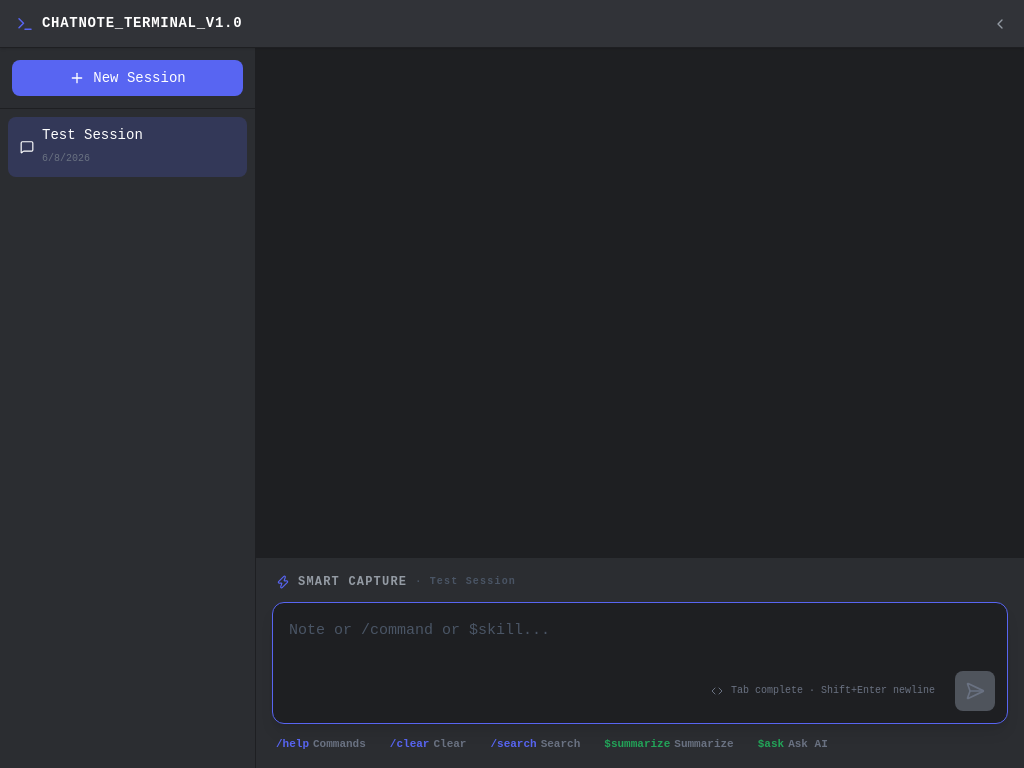
context loading › clicking × on chip removes the chip
Type "@TestServer #general" into the text box with placeholder "Note or /command or $skill...".
click(640, 658); type("@TestServer #general")  # box [273, 602, 1007, 714]
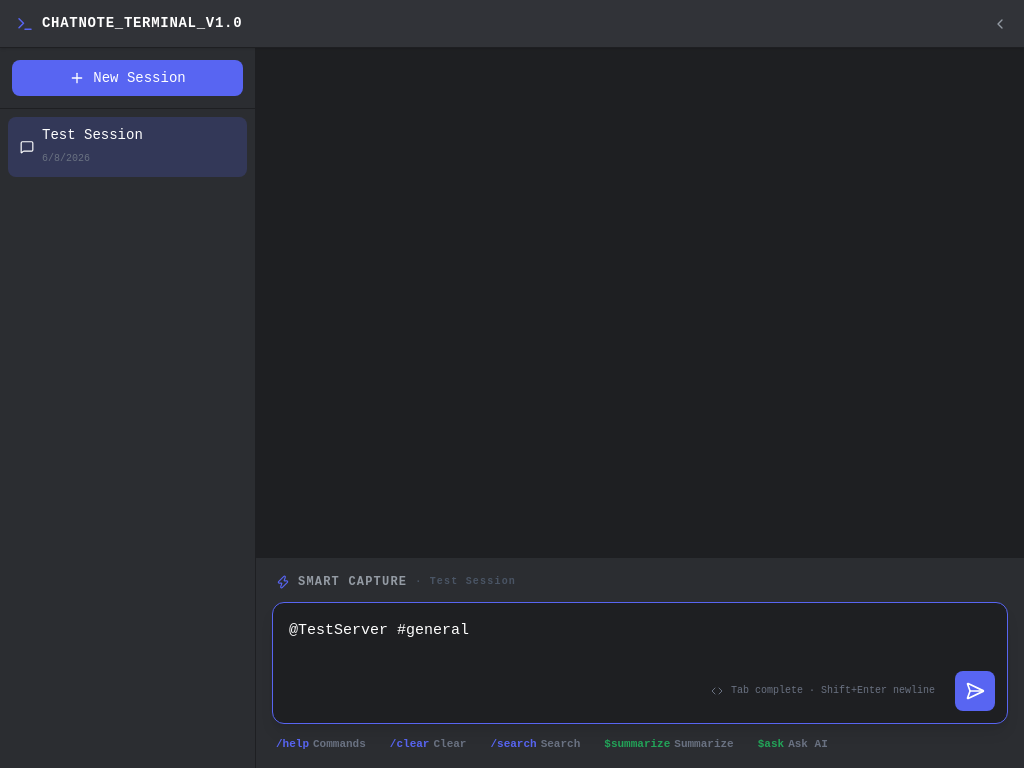
Click the 3rd button.
click(975, 690)  # box [955, 670, 995, 710]
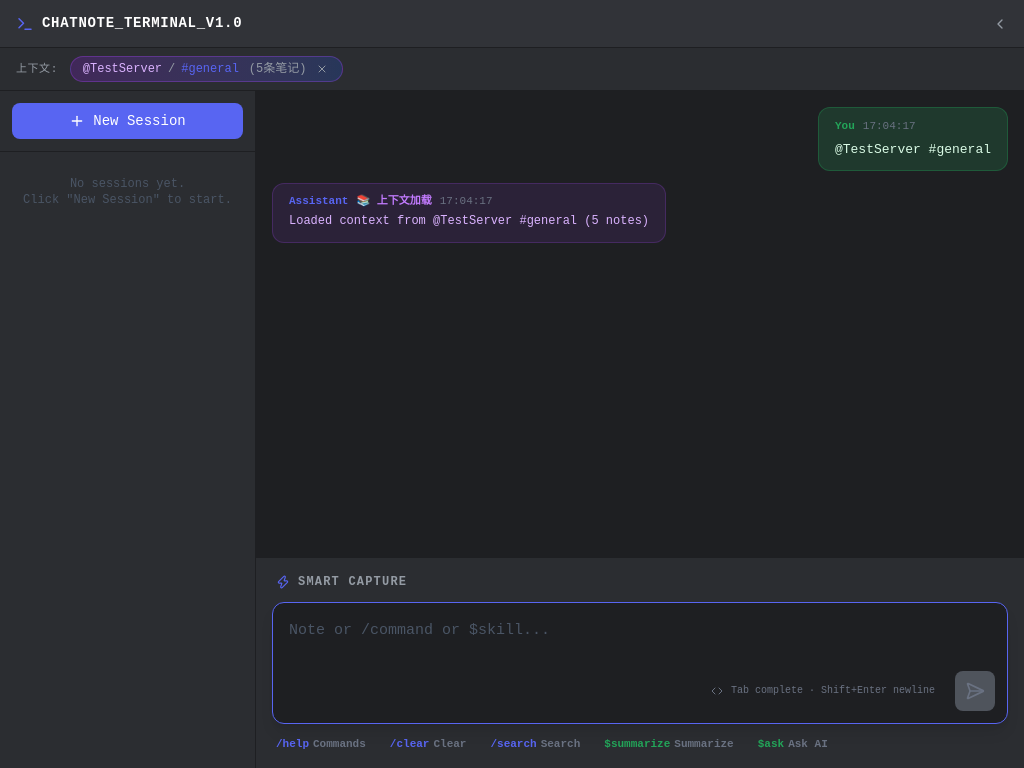
Expected: the text "上下文:" is shown, [16, 61, 58, 77]
Find and click the remove button (×)
Click the button titled "移除上下文".
click(322, 69)  # box [314, 61, 330, 77]
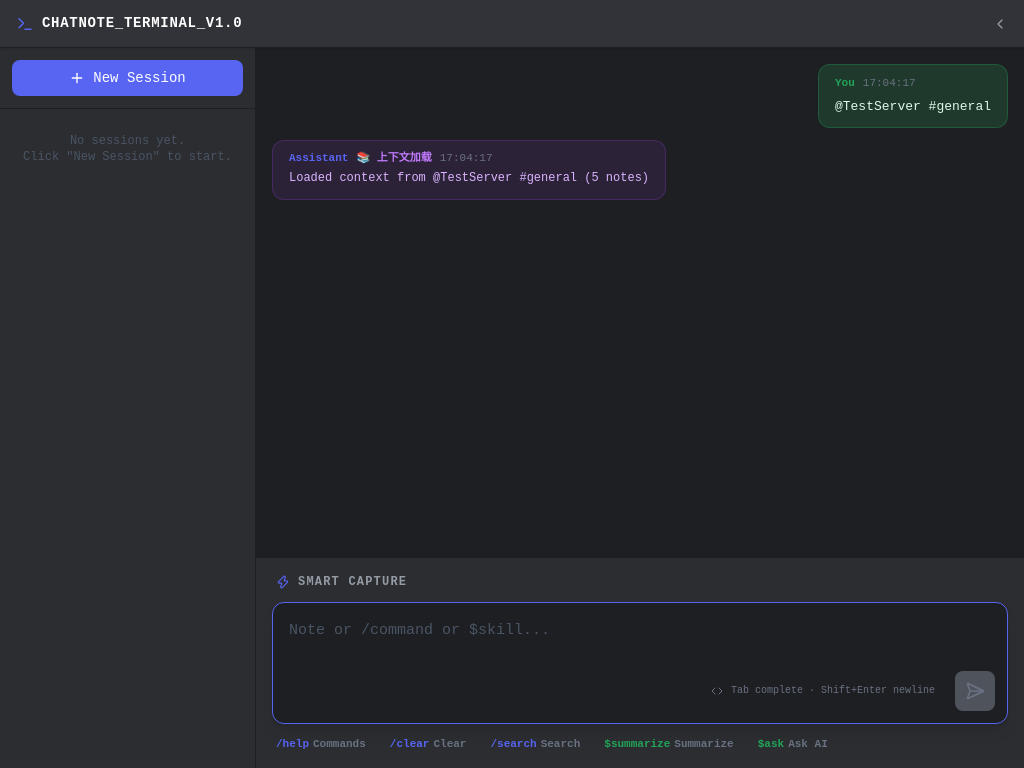
Expected: the text "上下文:" is gone
